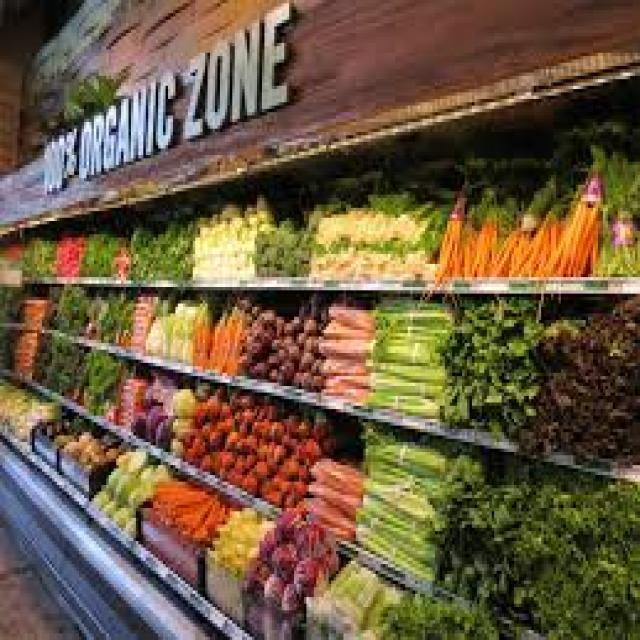organic waste: (507, 472, 635, 633), (178, 386, 334, 505), (430, 449, 521, 610), (531, 370, 638, 456), (309, 188, 447, 247), (235, 290, 319, 386), (531, 297, 638, 369), (544, 126, 596, 270), (583, 142, 638, 270), (356, 419, 479, 475), (440, 300, 536, 366), (188, 194, 267, 274), (314, 557, 403, 627), (353, 515, 445, 577), (151, 468, 225, 544), (442, 366, 539, 422), (509, 181, 563, 274), (361, 459, 462, 508), (390, 590, 497, 636), (494, 175, 544, 270), (210, 495, 269, 567), (141, 300, 205, 360), (356, 492, 452, 531), (306, 241, 435, 270), (0, 376, 57, 439), (192, 297, 240, 369), (373, 294, 455, 336), (129, 218, 195, 270), (131, 372, 175, 448), (433, 162, 462, 277), (252, 211, 309, 267), (52, 419, 121, 465), (464, 172, 496, 270), (368, 327, 447, 366), (66, 353, 118, 412), (368, 356, 442, 393), (366, 379, 440, 416), (32, 336, 82, 389), (304, 488, 358, 534), (163, 379, 198, 449), (163, 297, 198, 363), (304, 472, 358, 511), (42, 280, 86, 326), (309, 452, 358, 492), (314, 327, 373, 356), (126, 290, 153, 350), (106, 373, 141, 419), (79, 234, 119, 271), (102, 290, 128, 340), (274, 498, 304, 538), (292, 518, 331, 548), (252, 521, 279, 564), (289, 554, 319, 591), (52, 234, 81, 271), (136, 459, 173, 488), (22, 234, 54, 267), (314, 538, 343, 574), (316, 350, 368, 370), (274, 574, 302, 610), (260, 567, 286, 604), (112, 468, 138, 505), (329, 300, 368, 324), (10, 330, 37, 363), (106, 234, 128, 274), (270, 541, 296, 574), (316, 379, 366, 396), (324, 366, 371, 383), (240, 554, 264, 587), (15, 294, 42, 323), (114, 445, 143, 472), (98, 462, 118, 495), (84, 297, 101, 333), (321, 320, 366, 333), (124, 482, 150, 504), (109, 502, 126, 524), (89, 488, 104, 508), (121, 515, 136, 531)
